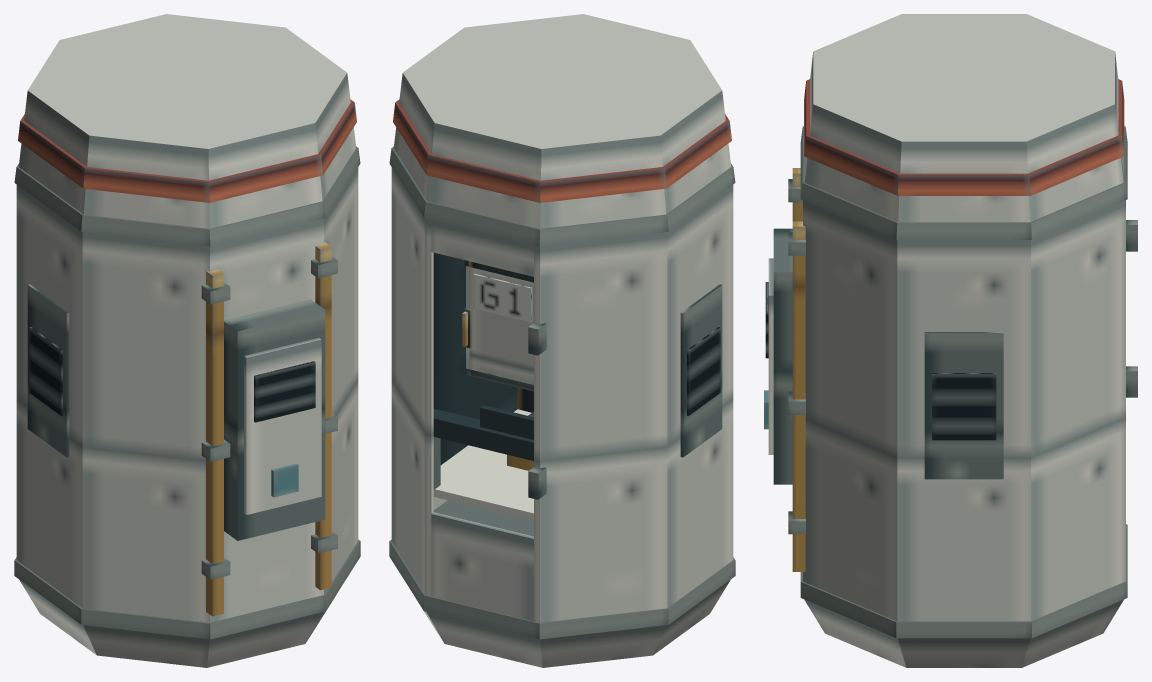
File: rocket_body_tier_1.obj
3 renders of one model, left to right at view 1: azimuth 30°, elevation 25°; view 2: azimuth 150°, elevation 25°; view 3: azimuth 270°, elevation 25°, orthographic.
Visible parts, largest first — view 1: Body; view 2: Body, Hatch; view 3: Body.
Part boxes in pixels (bbox=[...]): Body: bbox=[14, 14, 360, 667]; Body: bbox=[389, 14, 735, 667]; Hatch: bbox=[462, 260, 533, 391]; Body: bbox=[764, 14, 1137, 667].
Bounding box in the file's own units: 1.42 × 2.5 × 1.59.
